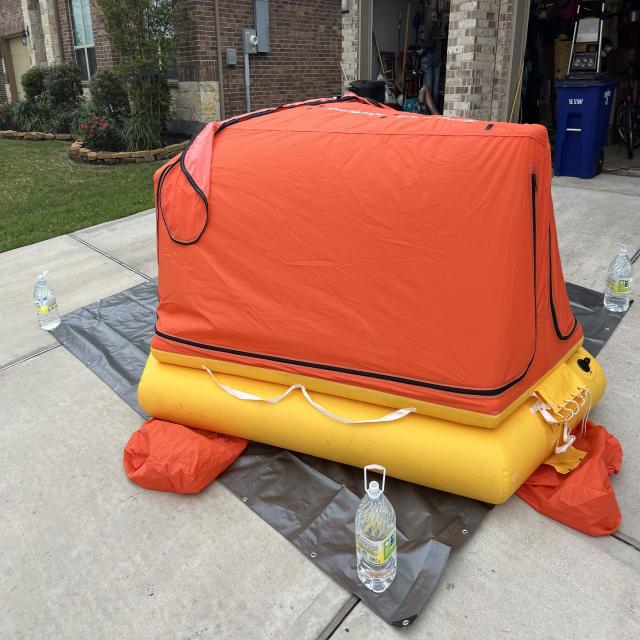Multi-person_life_raft: (124, 89, 624, 537)
